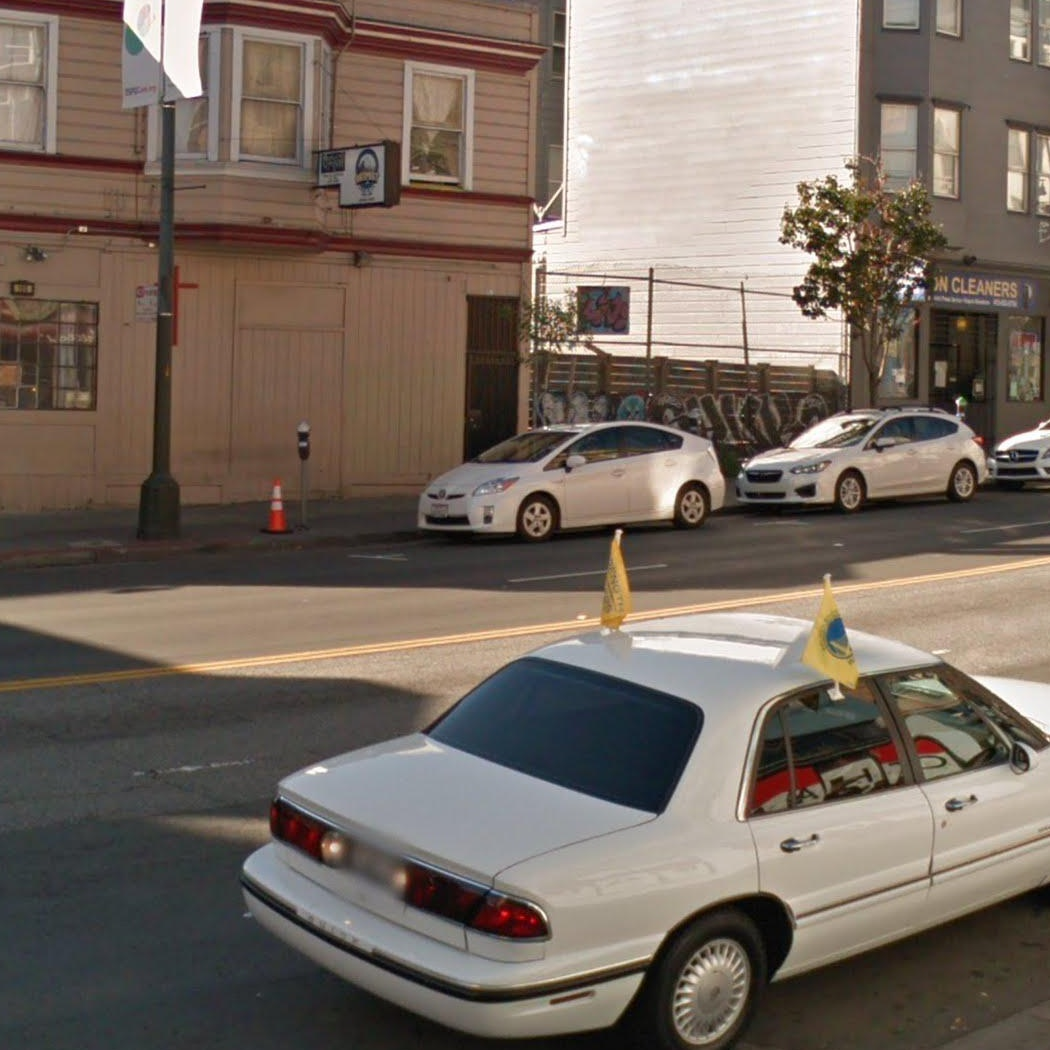No Parking: (133, 284, 161, 323)
